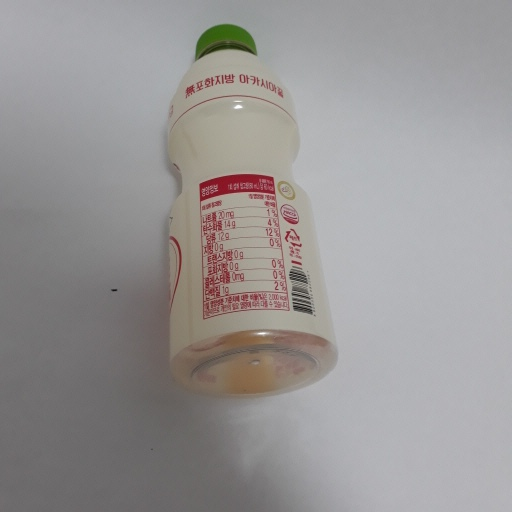Plastic_0: (162, 22, 344, 401)
